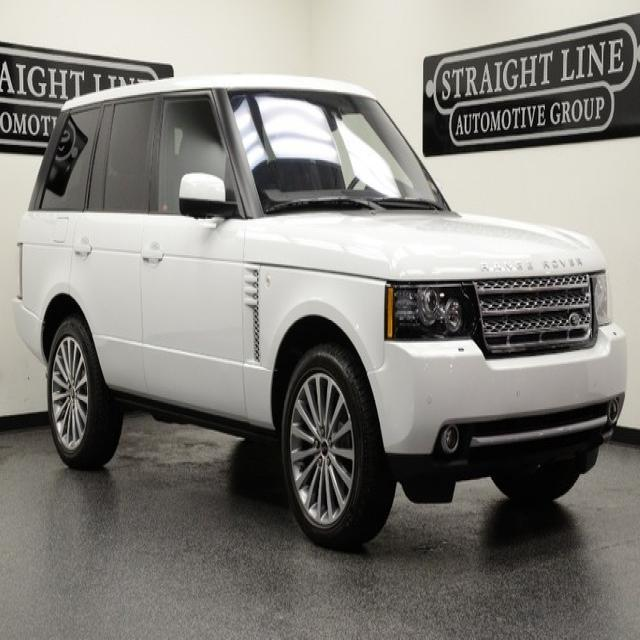car: (14, 70, 630, 572)
